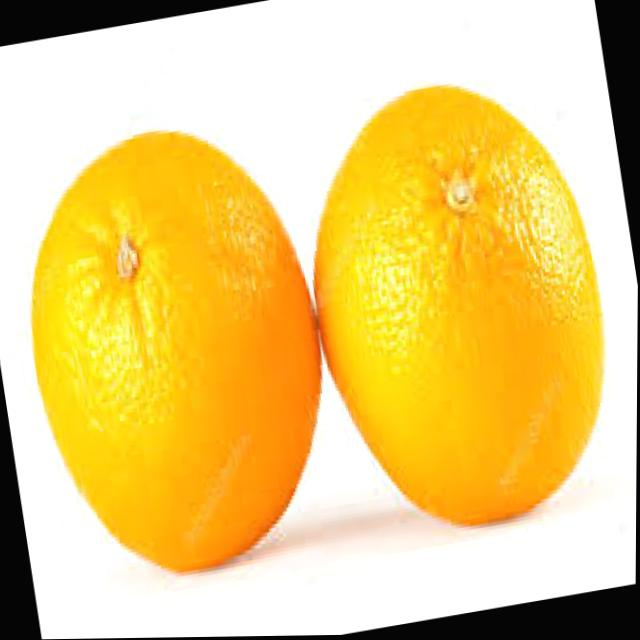orange: (0, 100, 356, 599), (286, 67, 630, 550)
